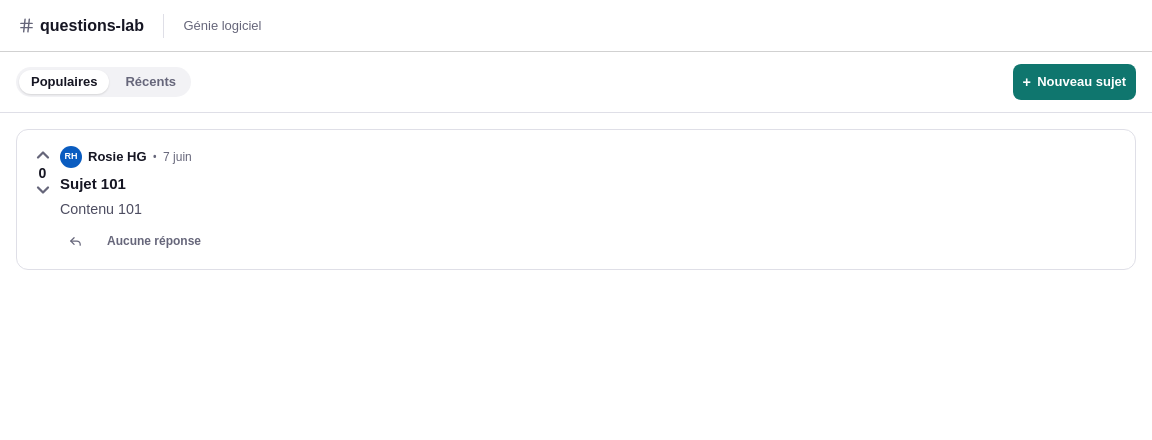
Test: ForumView › le bouton « Répondre » ouvre le composer de réponse
The width and height of the screenshot is (1152, 440).
Expected: the heading "Sujet 101" is shown, [60,175,126,192]
Click the button named "Répondre".
click(76, 241)  # box [60,229,91,253]
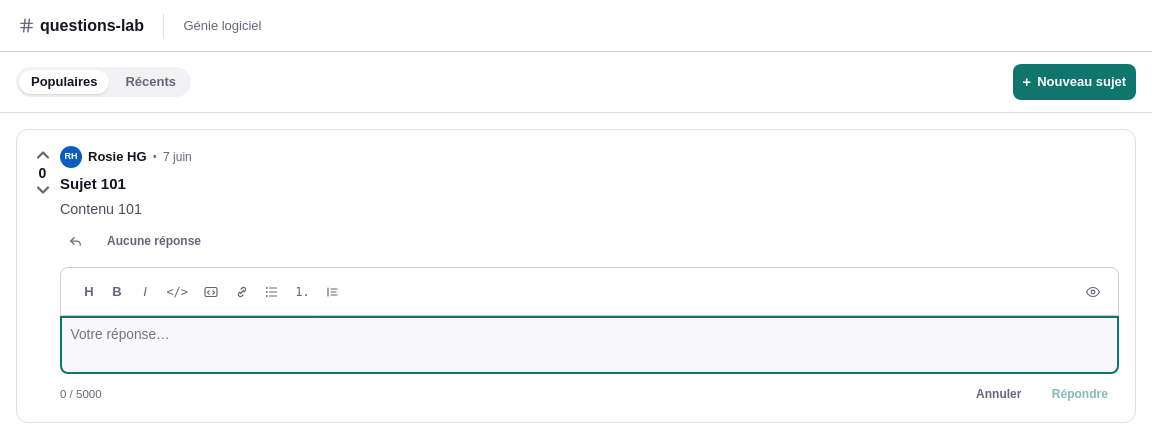
Expected: the text box with placeholder "Votre réponse…" is shown, [60,316,1119,374]
